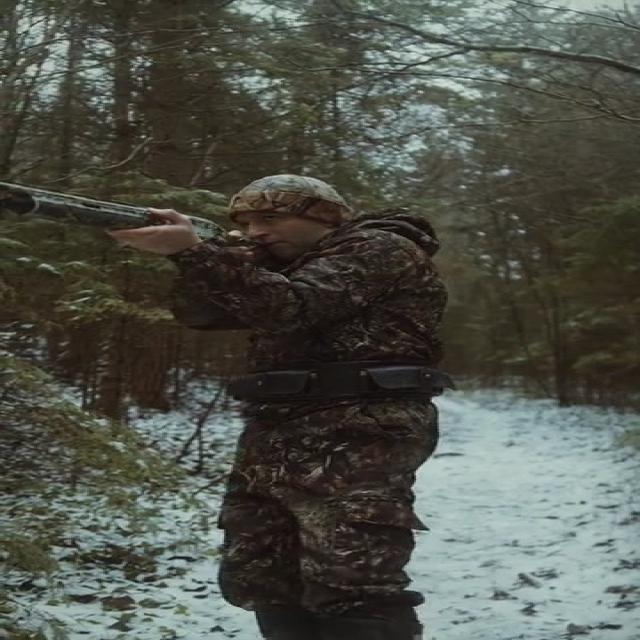Gun_Holder: (0, 176, 256, 267)
Person: (189, 166, 456, 634)
